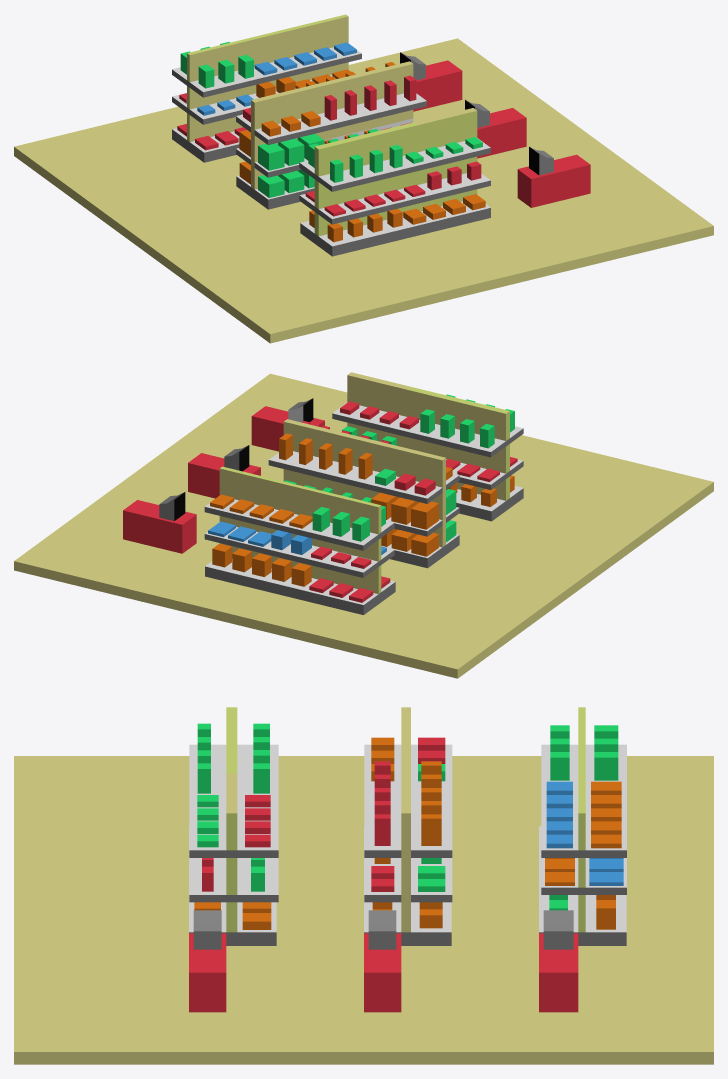
The model's file is Box area 2.fbx.
3 views of the same model, one above another, from view 1: azimuth 30°, elevation 25°; view 2: azimuth 150°, elevation 25°; view 3: azimuth 270°, elevation 25° (orthographic). The views are drawn at different scales.
Visible parts, largest first — view 1: Gift shop; view 2: Gift shop; view 3: Gift shop.
Boxes of the visible parts, <box> form: Gift shop: <box>14,14,713,343</box>; Gift shop: <box>14,372,713,678</box>; Gift shop: <box>14,707,713,1064</box>.
Size of the model in its own units: 1000 by 229 by 1000.
